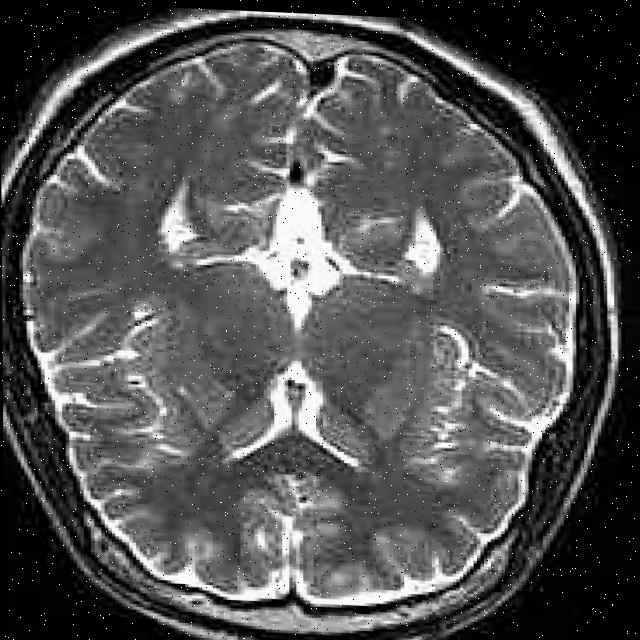NoTumor: (0, 0, 635, 640)
